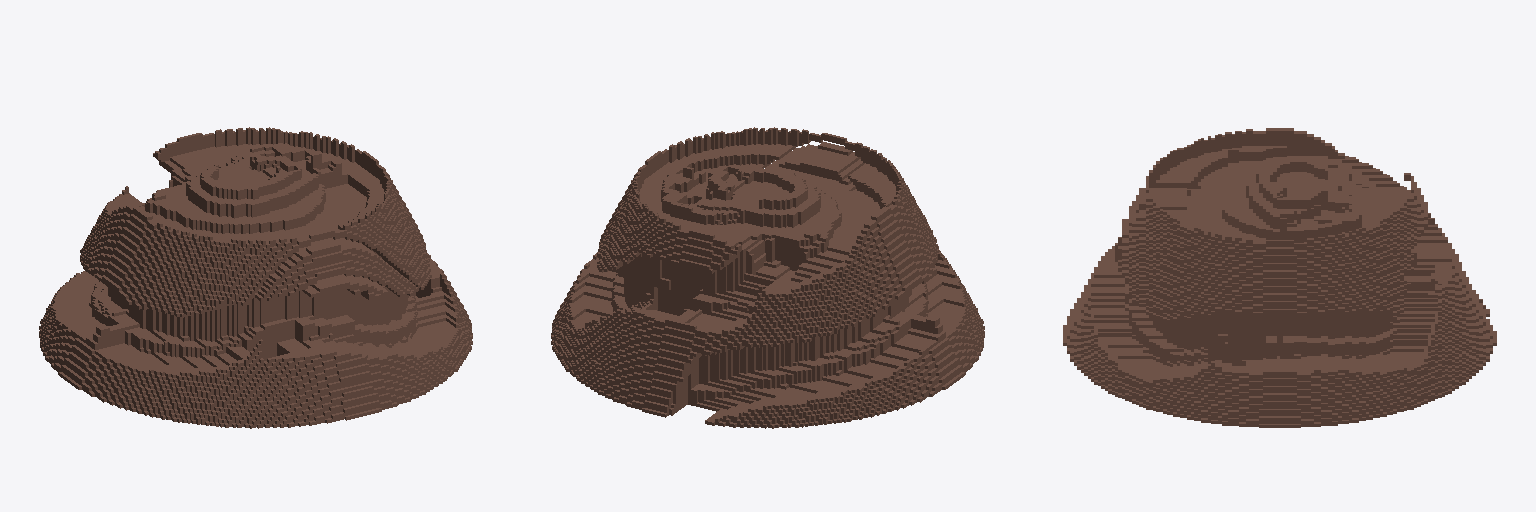
3 views of the same model, side by side, from view 1: azimuth 30°, elevation 25°; view 2: azimuth 150°, elevation 25°; view 3: azimuth 270°, elevation 25° (orthographic).
Visible parts, largest first — view 1: object 1; view 2: object 1; view 3: object 1.
Boxes of the visible parts, x1=… form: object 1: x1=39, y1=127, x2=472, y2=428; object 1: x1=551, y1=127, x2=984, y2=428; object 1: x1=1063, y1=128, x2=1496, y2=427.
Size of the model in its own units: 12.6 by 5.2 by 12.6.
Materials: 1 (1 with a texture image).